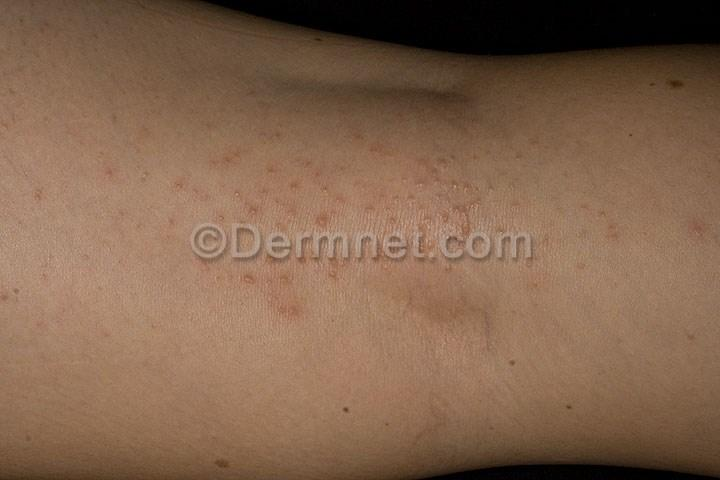edema 1: (86, 132, 520, 326)
